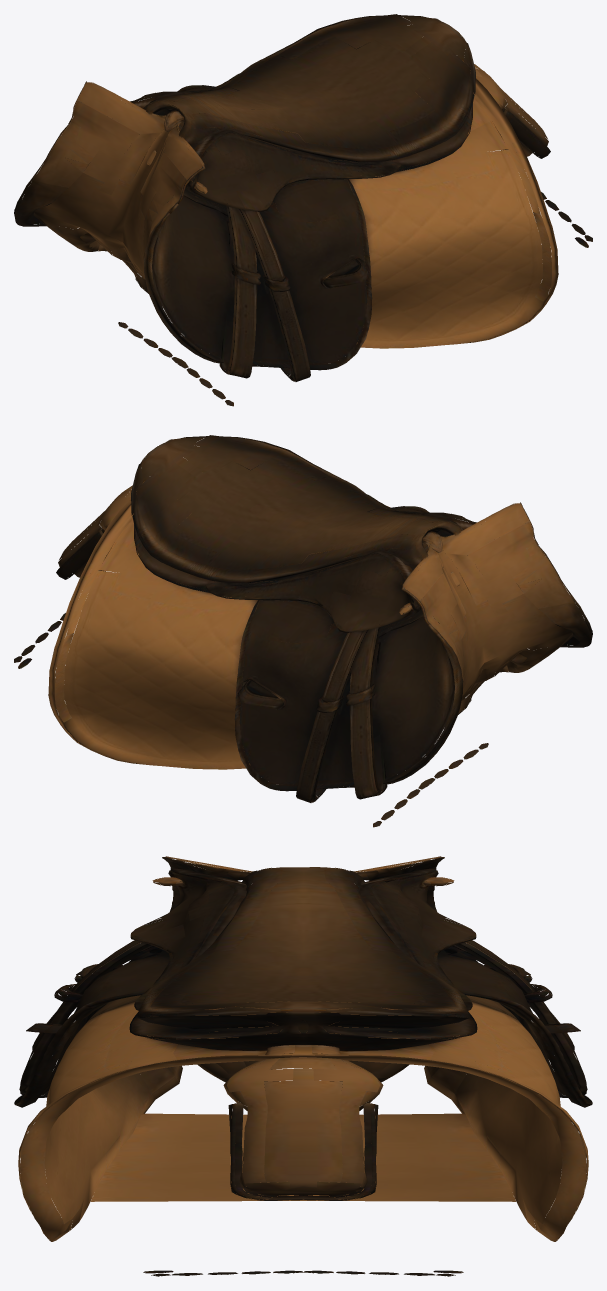
The model's file is Silla_Americano.glb.
The picture shows the model from 3 angles, top to bottom: view 1: azimuth 30°, elevation 25°; view 2: azimuth 150°, elevation 25°; view 3: azimuth 270°, elevation 25°; orthographic projection. The views are drawn at different scales.
Parts seen in each view (by area): view 1: Silla_Americano; view 2: Silla_Americano; view 3: Silla_Americano.
Part boxes in pixels (<box>): Silla_Americano: <box>14,14,592,406</box>; Silla_Americano: <box>14,435,592,827</box>; Silla_Americano: <box>14,856,592,1276</box>.
Bounding box in the file's own units: 0.2814 × 0.161 × 0.2625.
Materials: 1 (1 with a texture image).
